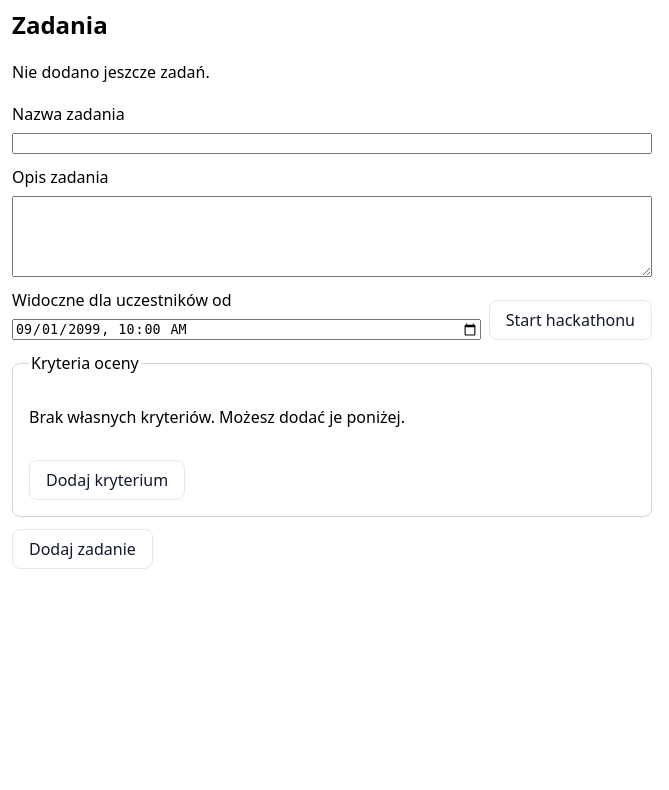
Test: HackathonTaskManager › creates a task using normalized form values
Expected: the text "Nie dodano jeszcze zadań." is shown, [12,61,210,83]
In the field labelled "Nazwa zadania": (332, 143) [12,133,652,154], type "  Frontend  "
In the text box labelled "Opis zadania": (332, 236) [12,196,652,277], type "  Zbuduj interfejs.  "
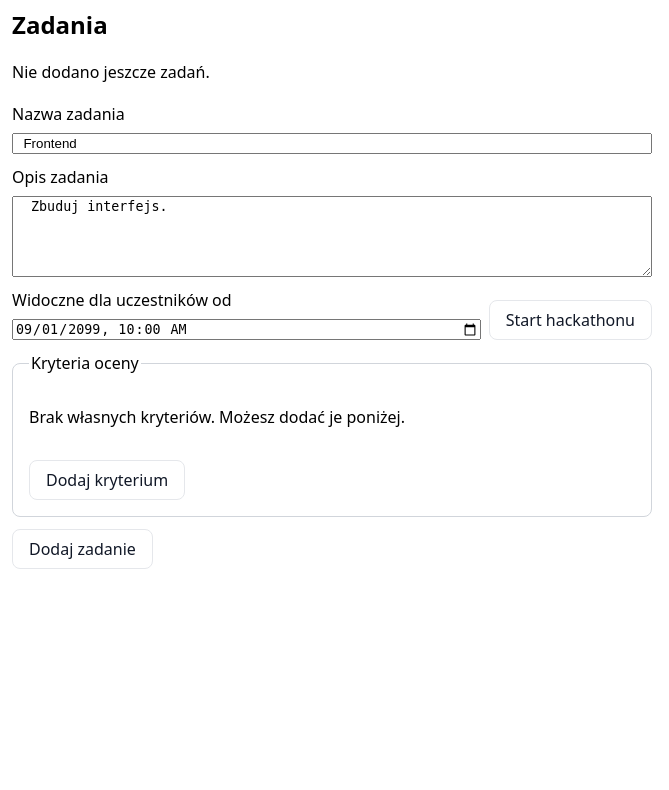
Replace the text in the field labelled "Widoczne dla uczestników od" with "2099-09-01T16:00": (246, 329) [12,319,481,340]
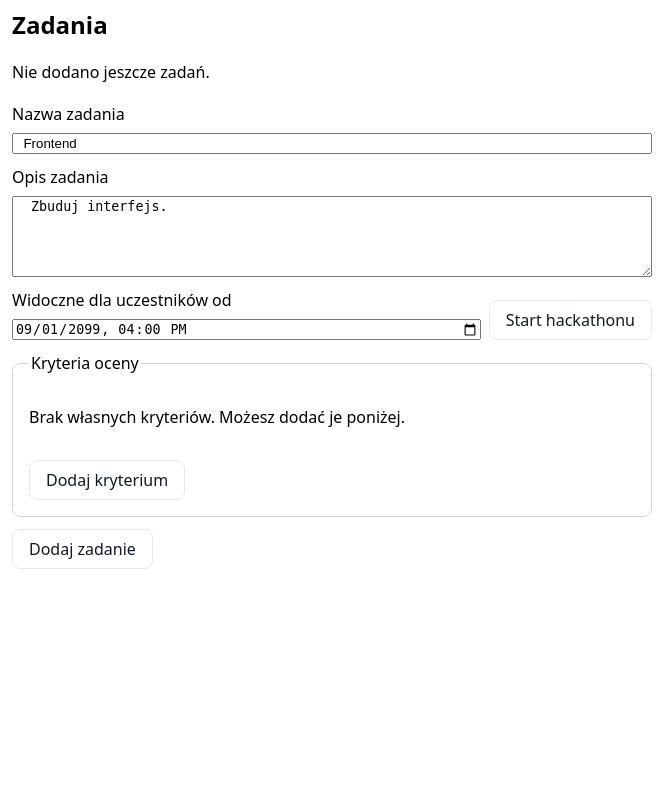
Click the button "Dodaj kryterium": click(107, 480) [29,460,185,500]
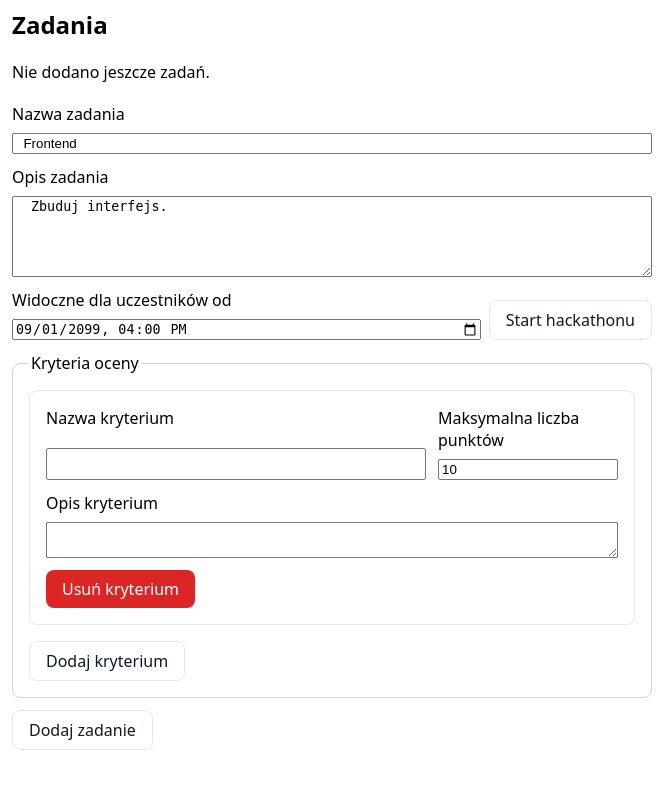
In the field labelled "Nazwa kryterium": (236, 464) [46,448,426,480], type " UX "
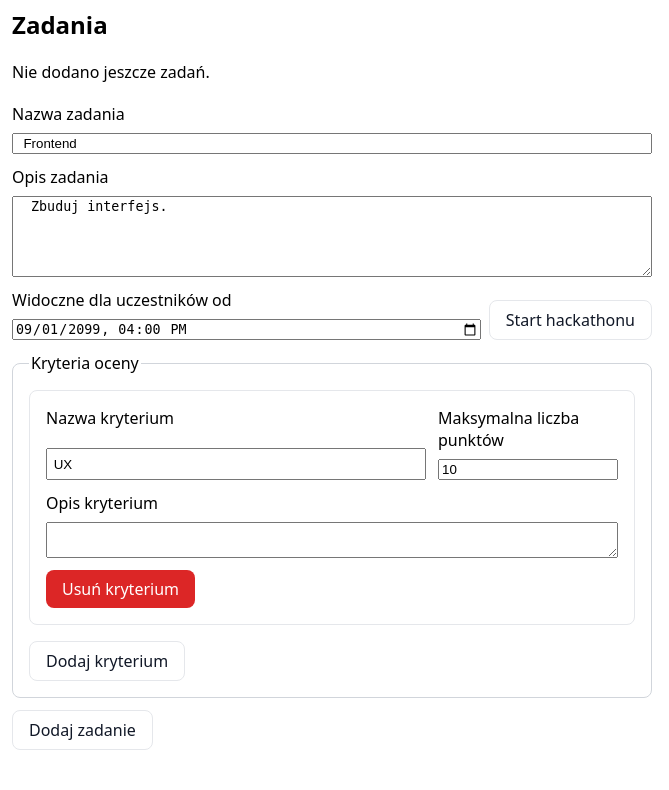
Replace the text in the number field labelled "Maksymalna liczba punktów" with "20": (528, 470) [438,459,618,480]
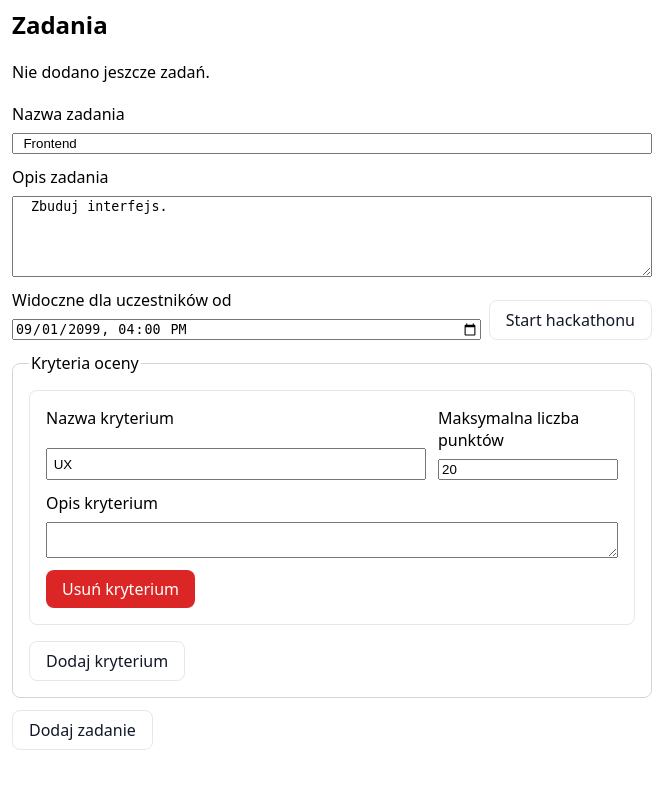
Click the button "Dodaj zadanie": click(82, 730) [12,710,153,750]
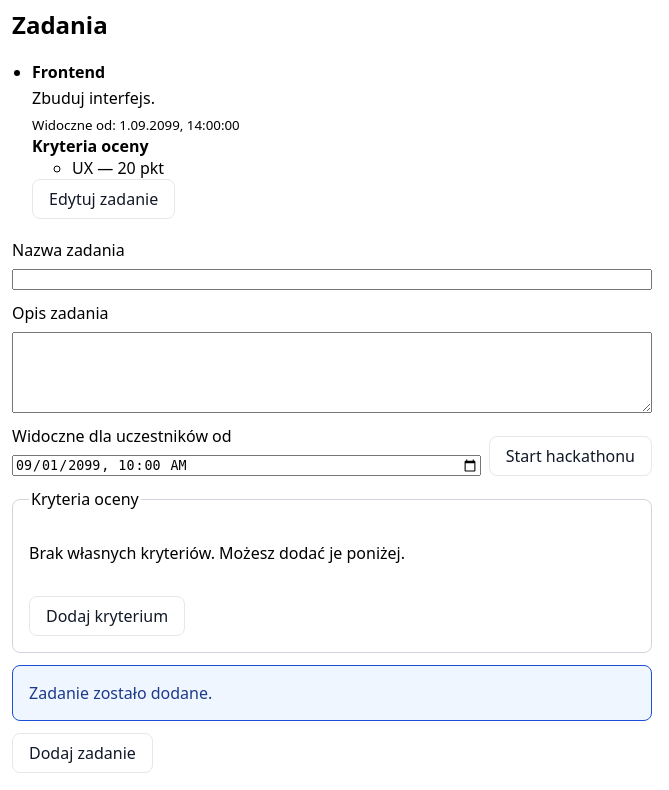
Expected: the text "Zadanie zostało dodane." is shown, [12,665,652,721]
Expected: the text "Frontend" is shown, [32,61,105,83]
